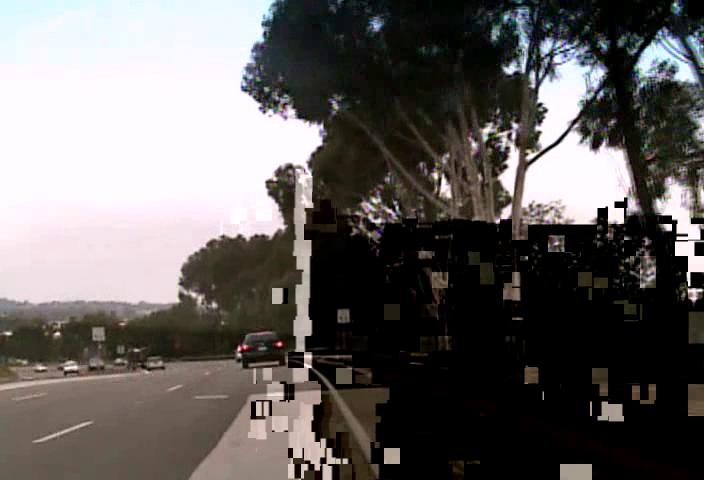speedLimitUrdbl: (91, 325, 105, 341)
